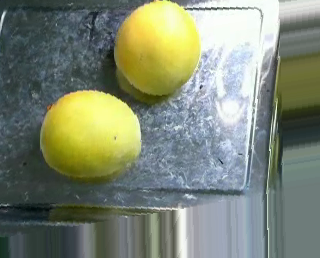Mango: (39, 90, 142, 177), (113, 1, 200, 94)
